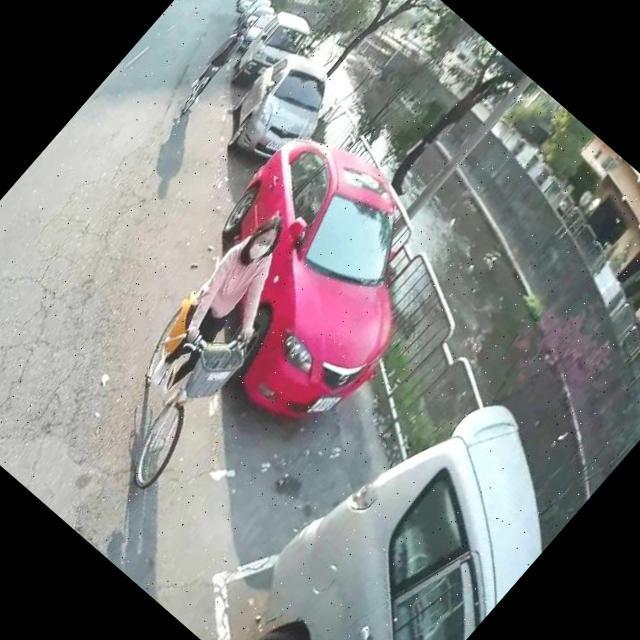person: (123, 198, 334, 424), (178, 20, 258, 108)
